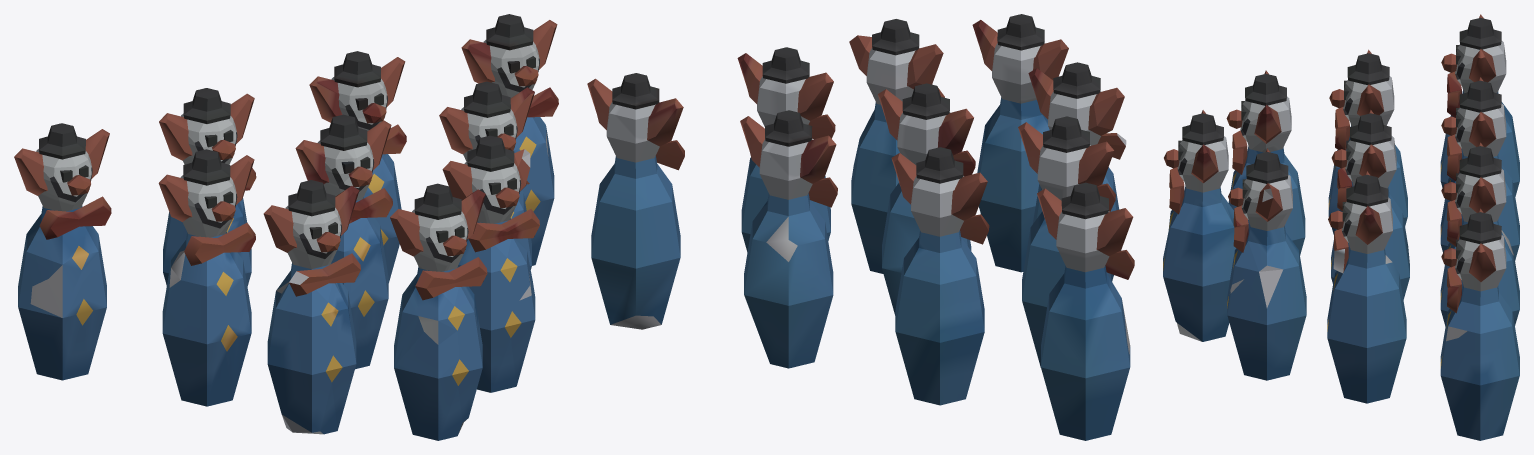
Rendered from bowling-pin.glb.
3 views of the same model, side by side, from view 1: azimuth 30°, elevation 25°; view 2: azimuth 150°, elevation 25°; view 3: azimuth 270°, elevation 25° (orthographic). The views are drawn at different scales.
Parts seen in each view (by area): view 1: SM_Prop_Bowling_Pin_01; view 2: SM_Prop_Bowling_Pin_01; view 3: SM_Prop_Bowling_Pin_01.
Part boxes in pixels (x1,y1,x2,y2): SM_Prop_Bowling_Pin_01: (14,14,558,440); SM_Prop_Bowling_Pin_01: (587,14,1134,440); SM_Prop_Bowling_Pin_01: (1163,14,1519,440).
Bounding box in the file's own units: 86.91 × 36.54 × 55.49.
Materials: 1 (1 with a texture image).
